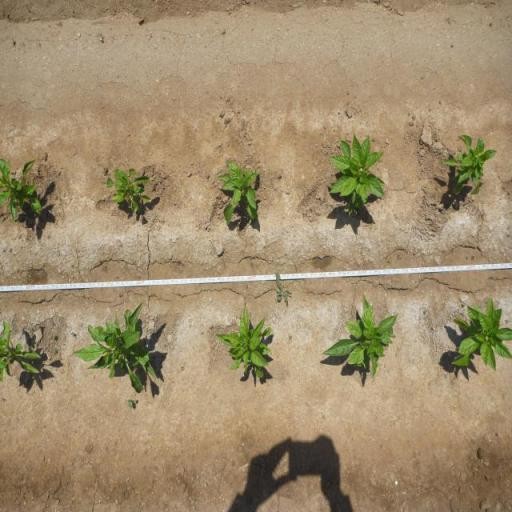plant: (75, 299, 160, 394), (319, 289, 399, 382), (327, 130, 386, 220), (214, 302, 274, 382), (449, 295, 512, 371), (438, 132, 499, 198), (214, 157, 262, 227), (0, 155, 43, 224), (0, 319, 39, 384), (107, 164, 153, 215)
weed: (275, 272, 292, 306), (128, 398, 138, 410), (103, 166, 108, 177), (70, 330, 76, 337), (118, 292, 124, 299), (208, 324, 214, 330), (52, 348, 58, 354), (52, 334, 57, 340), (278, 173, 282, 179), (288, 334, 292, 340), (180, 366, 184, 372), (36, 323, 40, 329), (462, 303, 465, 307)
